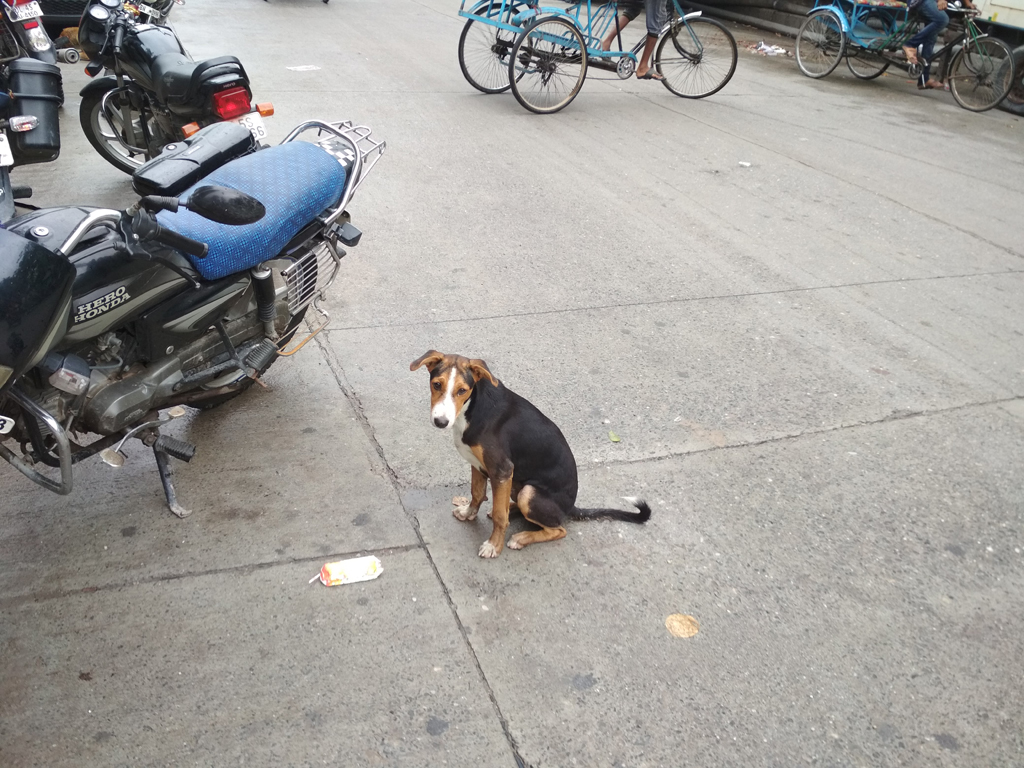dog: (410, 349, 652, 556)
